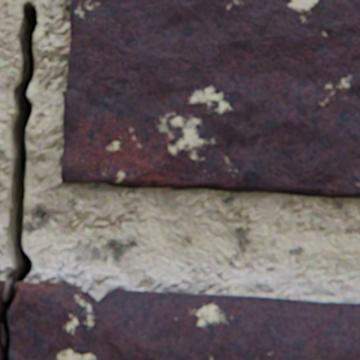brick: (61, 0, 359, 197)
broken_brick: (7, 279, 359, 359), (0, 279, 5, 319), (0, 341, 3, 359)
crack: (0, 0, 39, 359)
